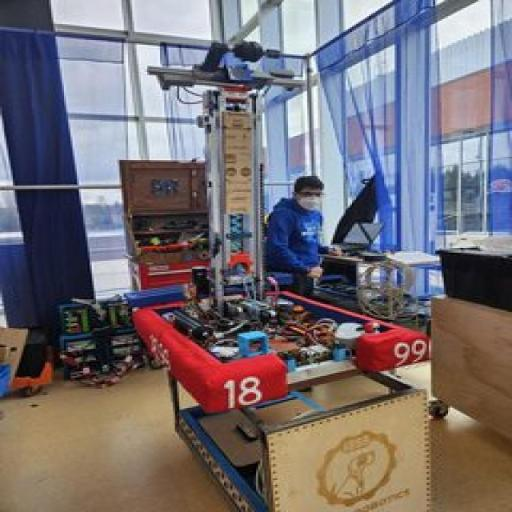robot: (119, 28, 442, 416)
